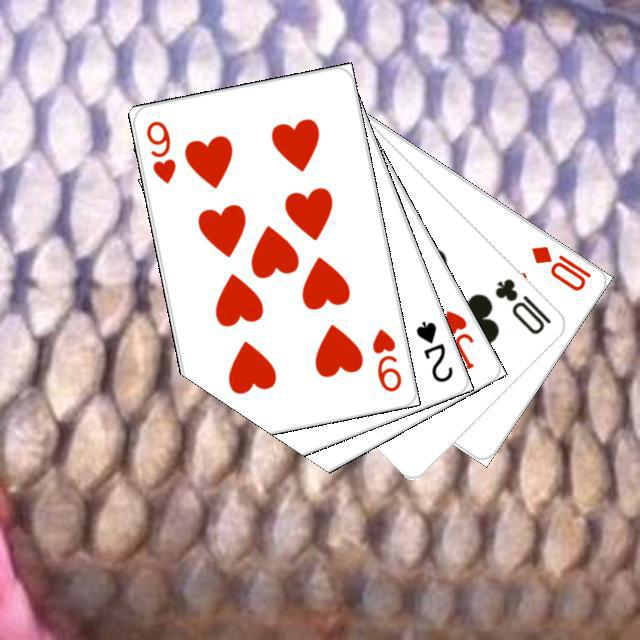10c: (490, 273, 553, 336)
10d: (526, 241, 593, 293)
2s: (410, 316, 455, 385)
9h: (141, 115, 178, 186), (367, 323, 403, 394)
Jh: (438, 305, 476, 371)
